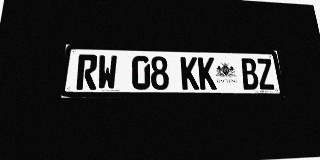0: (132, 56, 150, 90)
8: (150, 56, 169, 90)
B: (240, 58, 259, 90)
K: (180, 57, 199, 90), (198, 57, 217, 90)
R: (76, 54, 98, 90)
W: (97, 55, 117, 90)
Z: (256, 58, 275, 90)
